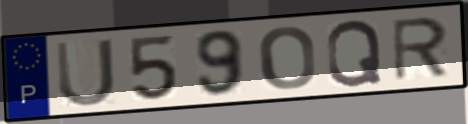5: (126, 33, 179, 102)
9: (193, 28, 246, 98)
O: (256, 24, 318, 92)
Q: (324, 18, 385, 89)
R: (388, 15, 451, 84)
U: (53, 35, 119, 109)
